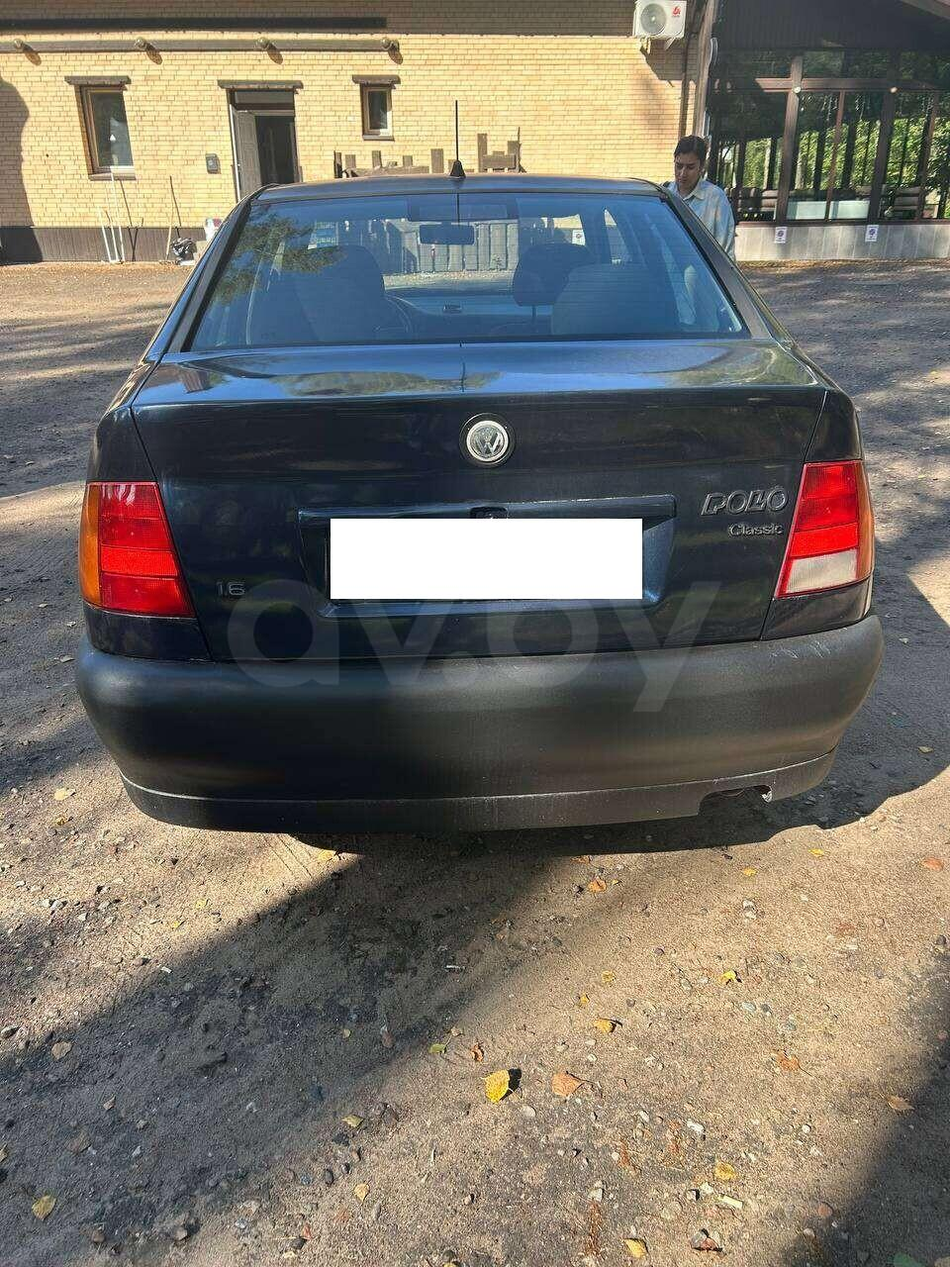Polo_1994-2002: (70, 163, 894, 863)
